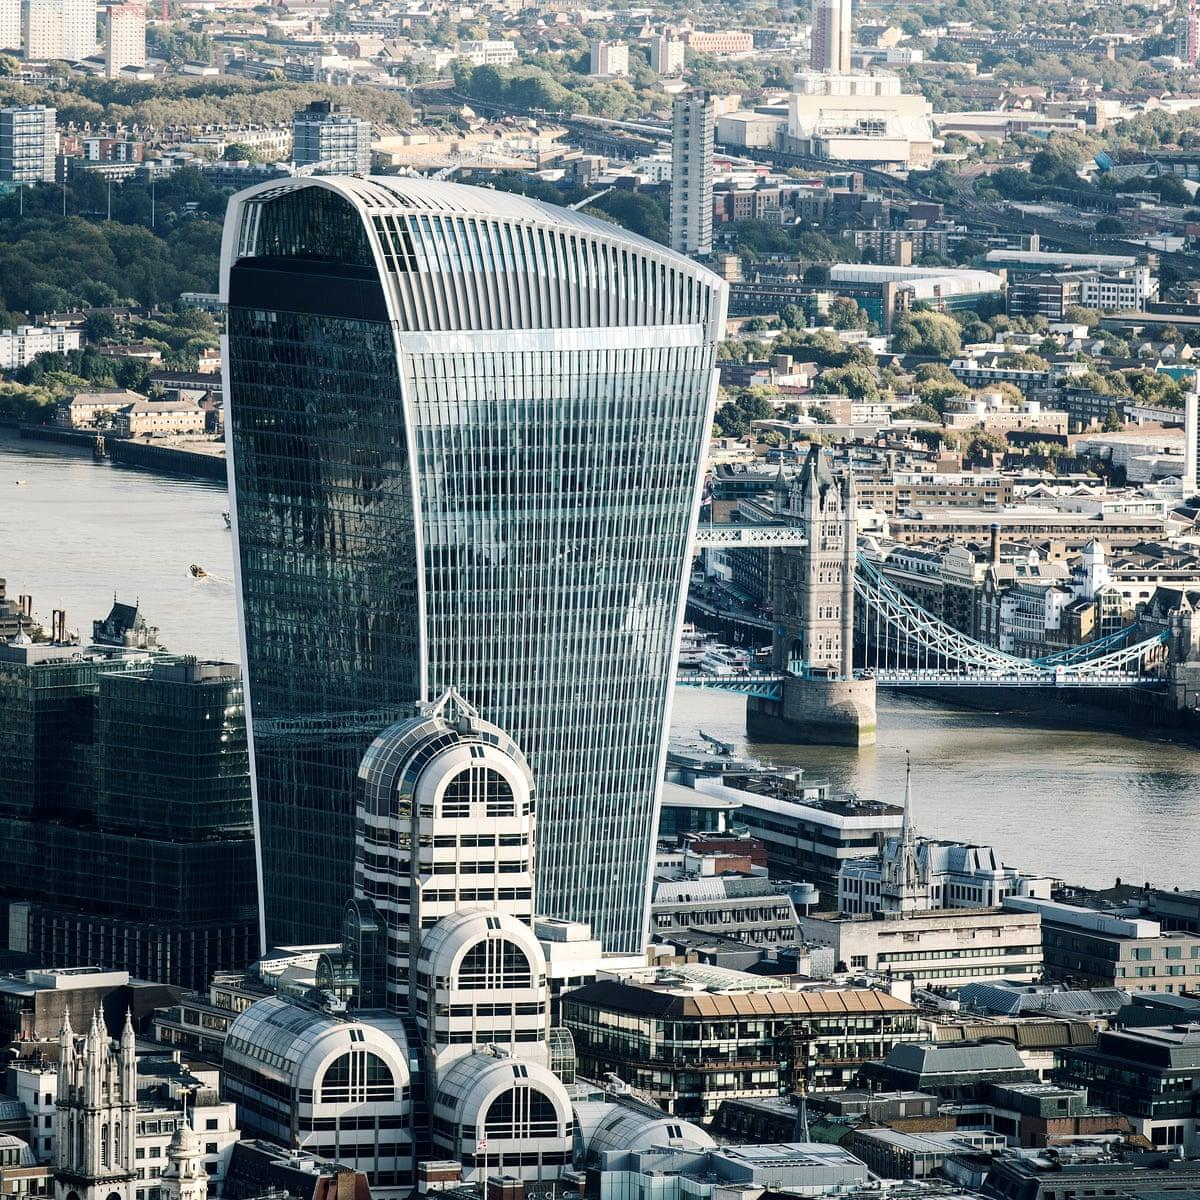Walkie talkie: (188, 154, 738, 946)
